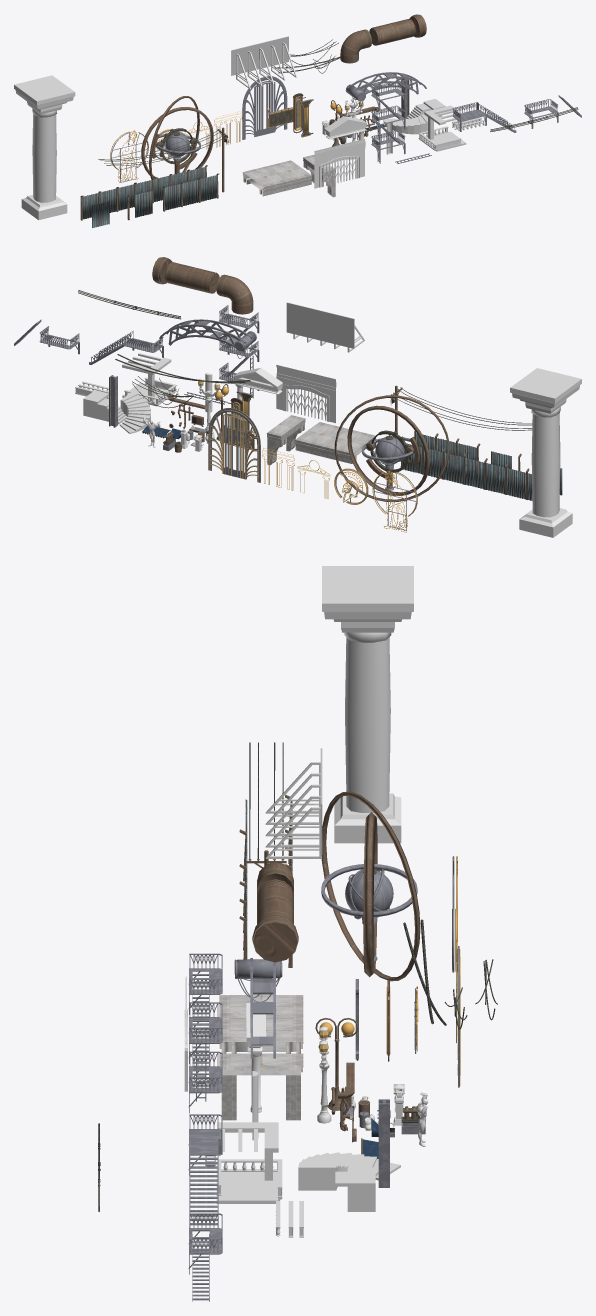
Rendered from DecorationSet.fbx.
3 renders of one model, top to bottom at view 1: azimuth 30°, elevation 25°; view 2: azimuth 150°, elevation 25°; view 3: azimuth 270°, elevation 25°, orthographic. The views are drawn at different scales.
Visible parts, largest first — view 1: BigPillar, Planet_Pole.001, Fence, AD_Big.001, Gate.002, MegaBuilding_ArtDecoGate.003, Bridge_small_mid.002, FireLadder.006, FenceShort, Balcony.001, BigTube.027, MetalConstruct_curved.005 (+16 smaller); view 2: BigPillar, Planet_Pole.001, Fence, MegaBuilding_ArtDecoGate.003, AD_Big.001, Gate.002, Bridge_small_mid.002, Balcony.001, FireLadder.006, MetalConstruct_curved.005, BigTube.027, Bridge_small_start.003 (+16 smaller); view 3: BigPillar, Planet_Pole.001, FireLadder.006, Balcony.001, Bridge_small_mid.002, Bridge_small_start.003, AD_Big.001, HouseFacade.003, CurveSteps.002, BigTube Connector.015, Steps02, MetalConstruct_curved.005 (+4 smaller).
Part boxes in pixels (box(x1,y1,x2,y2)): BigPillar: box(14, 75, 75, 220); Planet_Pole.001: box(141, 96, 213, 179); Fence: box(80, 165, 207, 220); AD_Big.001: box(231, 36, 297, 89); Gate.002: box(314, 139, 365, 188); MegaBuilding_ArtDecoGate.003: box(242, 76, 287, 139); Bridge_small_mid.002: box(242, 160, 311, 196); FireLadder.006: box(371, 81, 405, 163); FenceShort: box(163, 173, 219, 211); Balcony.001: box(418, 105, 466, 151); BigTube.027: box(369, 19, 415, 45); MetalConstruct_curved.005: box(347, 72, 426, 99); BigPillar: box(510, 368, 581, 537); Planet_Pole.001: box(334, 395, 449, 501); Fence: box(400, 443, 532, 500); MegaBuilding_ArtDecoGate.003: box(208, 408, 260, 482); AD_Big.001: box(286, 302, 364, 352); Gate.002: box(276, 365, 336, 423); Bridge_small_mid.002: box(295, 422, 376, 463); Balcony.001: box(122, 353, 177, 406); FireLadder.006: box(219, 305, 259, 400); MetalConstruct_curved.005: box(159, 319, 252, 347); BigTube.027: box(165, 262, 219, 293); Bridge_small_start.003: box(266, 415, 305, 465); BigPillar: box(322, 566, 413, 843); Planet_Pole.001: box(321, 791, 420, 981); FireLadder.006: box(188, 953, 222, 1113); Balcony.001: box(216, 1122, 282, 1203); Bridge_small_mid.002: box(219, 995, 303, 1053); Bridge_small_start.003: box(219, 1053, 303, 1120); AD_Big.001: box(265, 748, 322, 858); HouseFacade.003: box(188, 1114, 222, 1227); CurveSteps.002: box(298, 1152, 400, 1190); BigTube Connector.015: box(252, 915, 298, 962); Steps02: box(335, 1167, 375, 1211); MetalConstruct_curved.005: box(250, 958, 275, 1058).
Size of the model in its own units: 8471 by 2336 by 2864.
